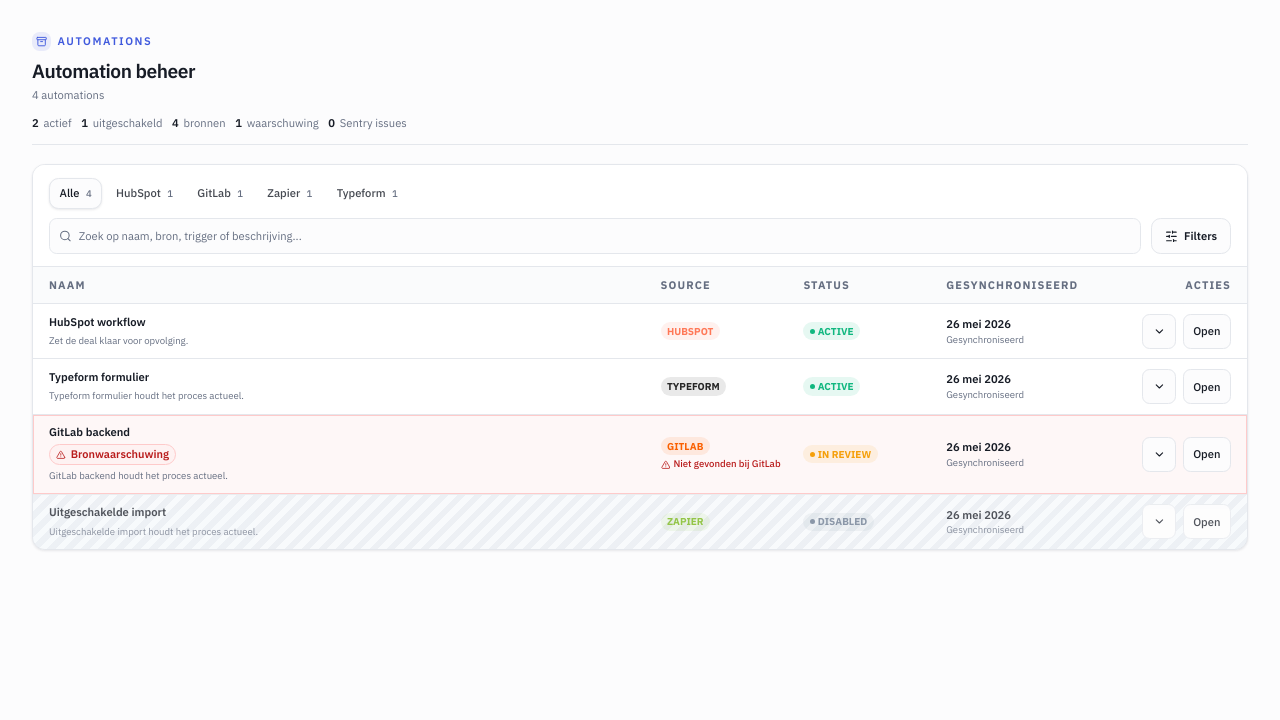
Scenario: Automations overview UI › keeps detailed filters behind a single filters button
Expected: the text "Alle categorieen" is not shown
Expected: the text "Alle systemen" is not shown
Click the button "Filters" at (1191, 236), box [1151,218,1231,254]
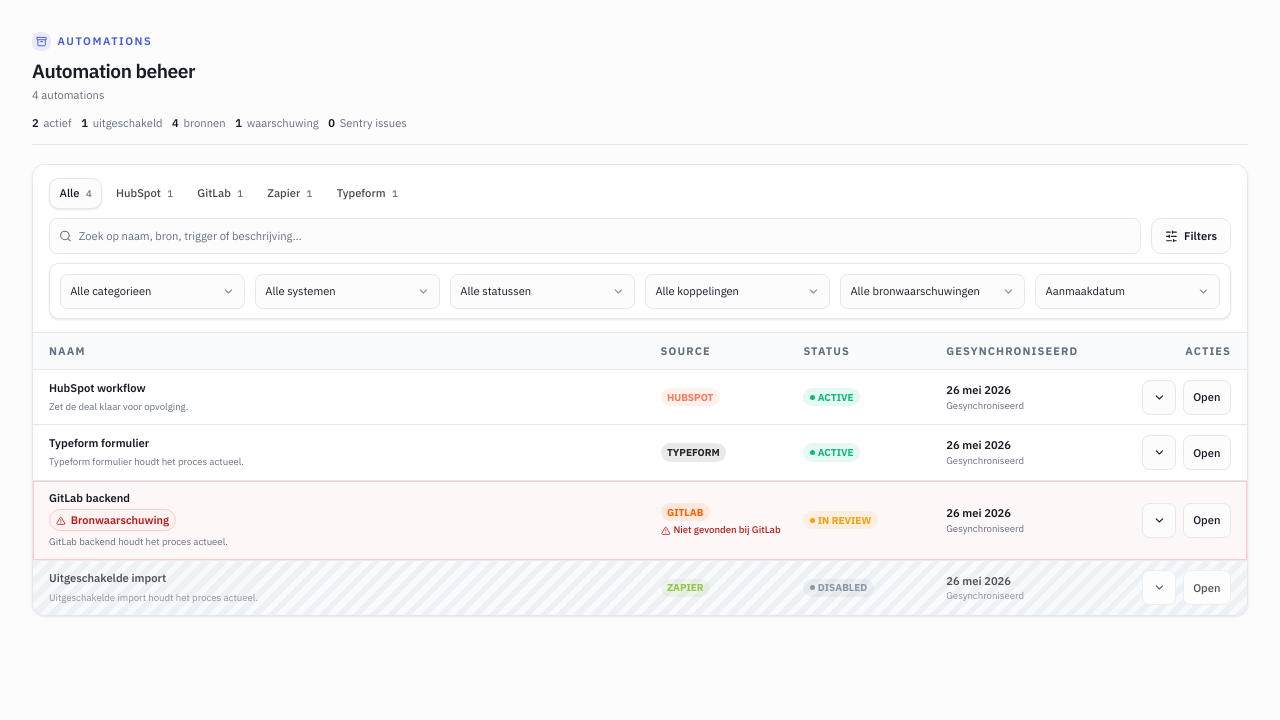
Expected: the text "Alle categorieen" is shown, [70,283,152,299]
Expected: the text "Alle systemen" is shown, [265,283,336,299]
Expected: the text "Alle statussen" is shown, [460,283,531,299]
